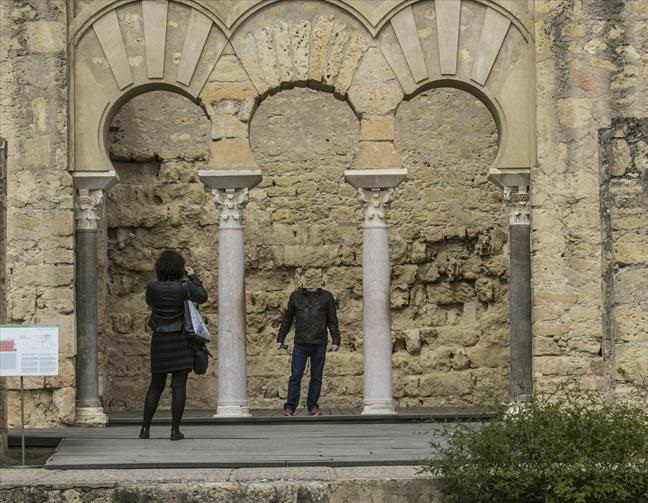arco-herradura: (375, 68, 522, 211), (85, 70, 231, 211), (230, 69, 375, 209)
